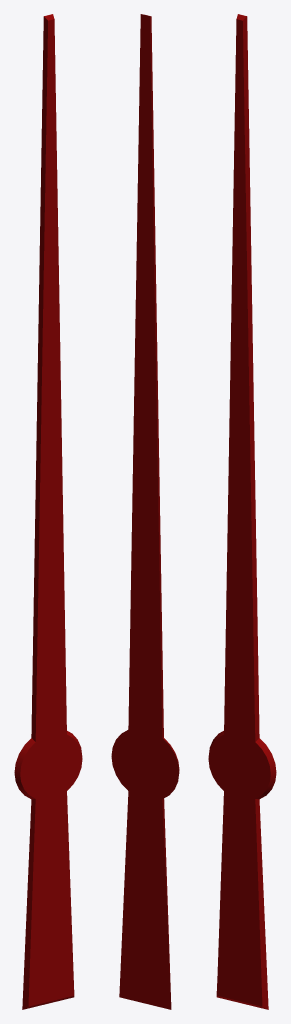
The model's file is Clock_Hand_SS.glb.
The picture shows the model from 3 angles, left to right: view 1: azimuth 30°, elevation 25°; view 2: azimuth 150°, elevation 25°; view 3: azimuth 330°, elevation 25°; orthographic projection.
Visible parts, largest first — view 1: Hand_SS; view 2: Hand_SS; view 3: Hand_SS.
Part boxes in pixels (x1,y1,x2,y2): Hand_SS: (14, 14, 82, 1009); Hand_SS: (111, 14, 179, 1009); Hand_SS: (208, 14, 276, 1009).
Size of the model in its own units: 0.4897 by 6.82 by 0.0369.
